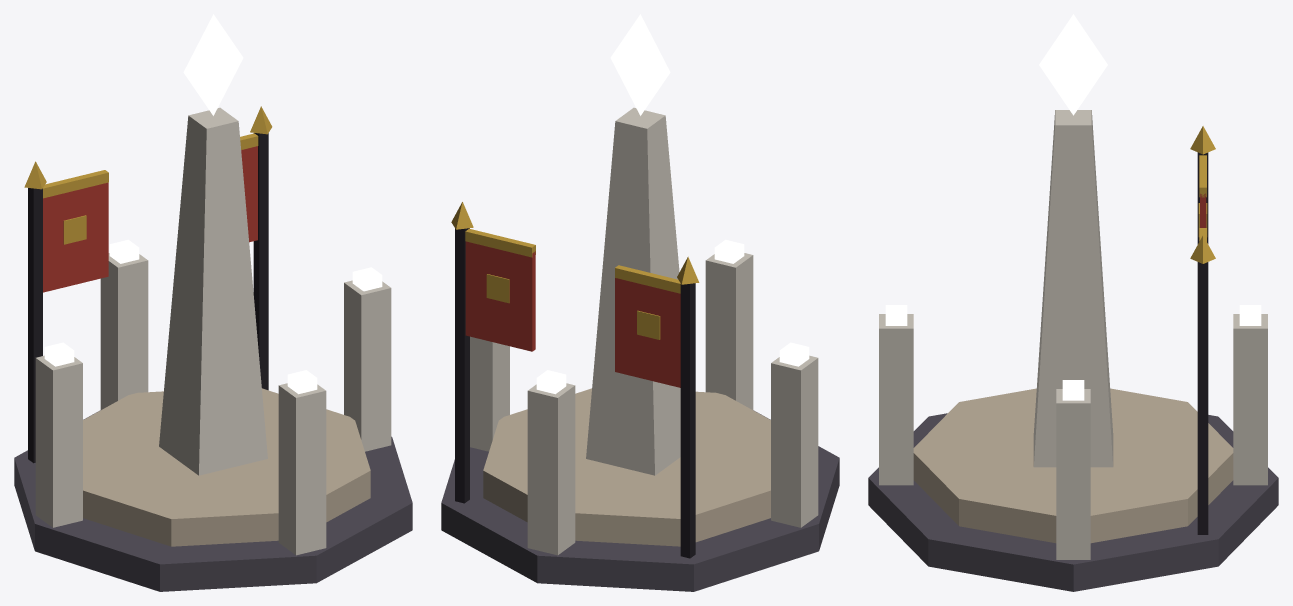
The model's file is hero_forge_t2.glb.
3 renders of one model, left to right at view 1: azimuth 30°, elevation 25°; view 2: azimuth 150°, elevation 25°; view 3: azimuth 270°, elevation 25°, orthographic.
Parts seen in each view (by area): view 1: body, glow; view 2: body, glow; view 3: body, glow.
Part boxes in pixels (x1=…): body: x1=14, y1=106, x2=412, y2=591; glow: x1=44, y1=14, x2=382, y2=394; body: x1=441, y1=107, x2=839, y2=591; glow: x1=536, y1=14, x2=809, y2=394; body: x1=868, y1=110, x2=1278, y2=591; glow: x1=885, y1=14, x2=1261, y2=400.
Bounding box in the file's own units: 1.9 × 2.51 × 1.9.
